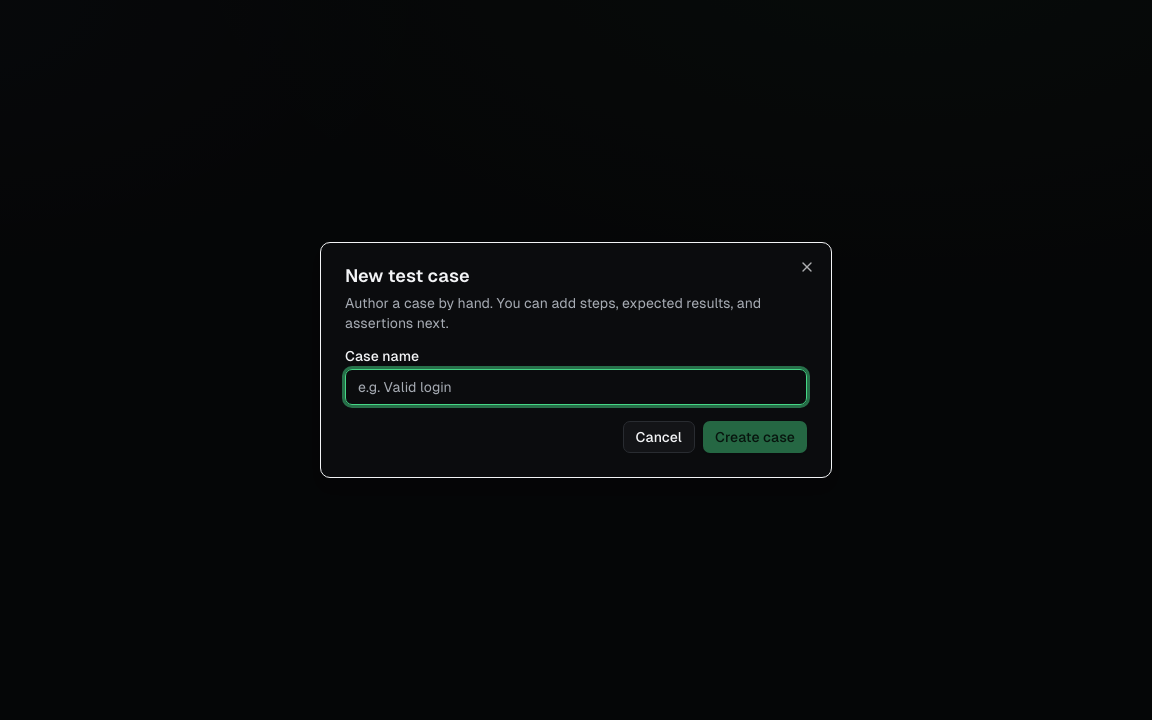
Test case: CreateCaseDialog › surfaces an error when the backend rejects the create
The width and height of the screenshot is (1152, 720).
Type "Bad" into the field with test id "create-case-name" at (576, 387), box 345,369 -> 807,405
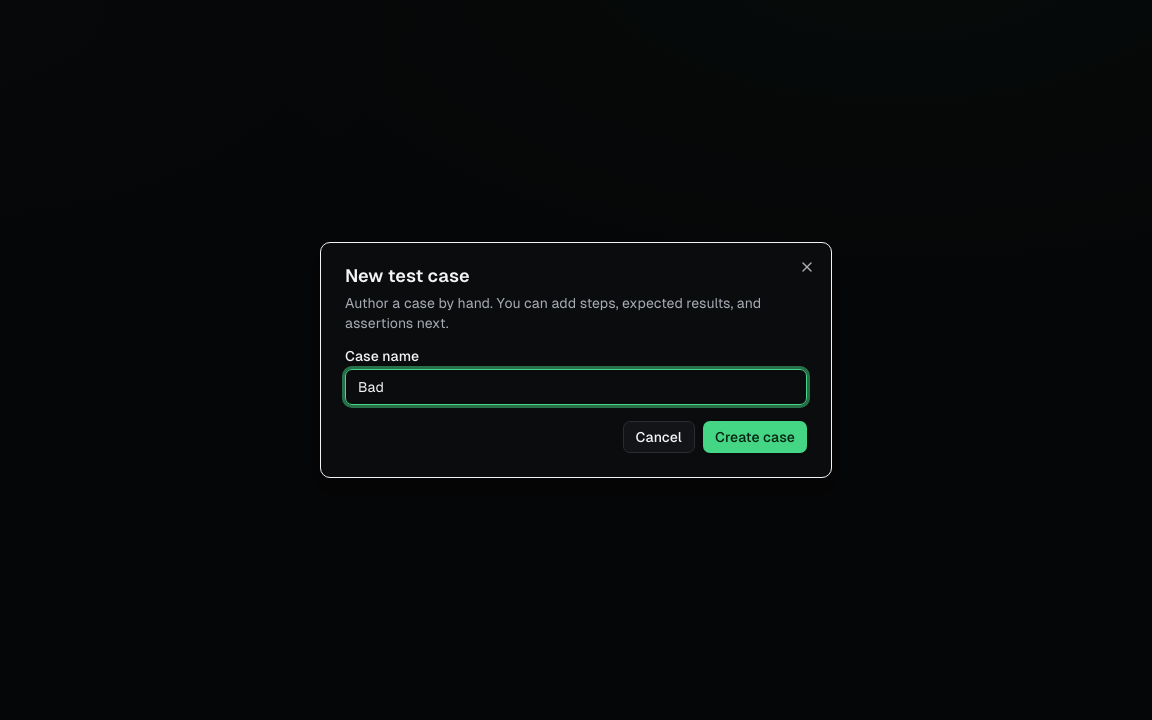
Click the button with test id "create-case-submit" at (755, 437), box 703,421 -> 807,453
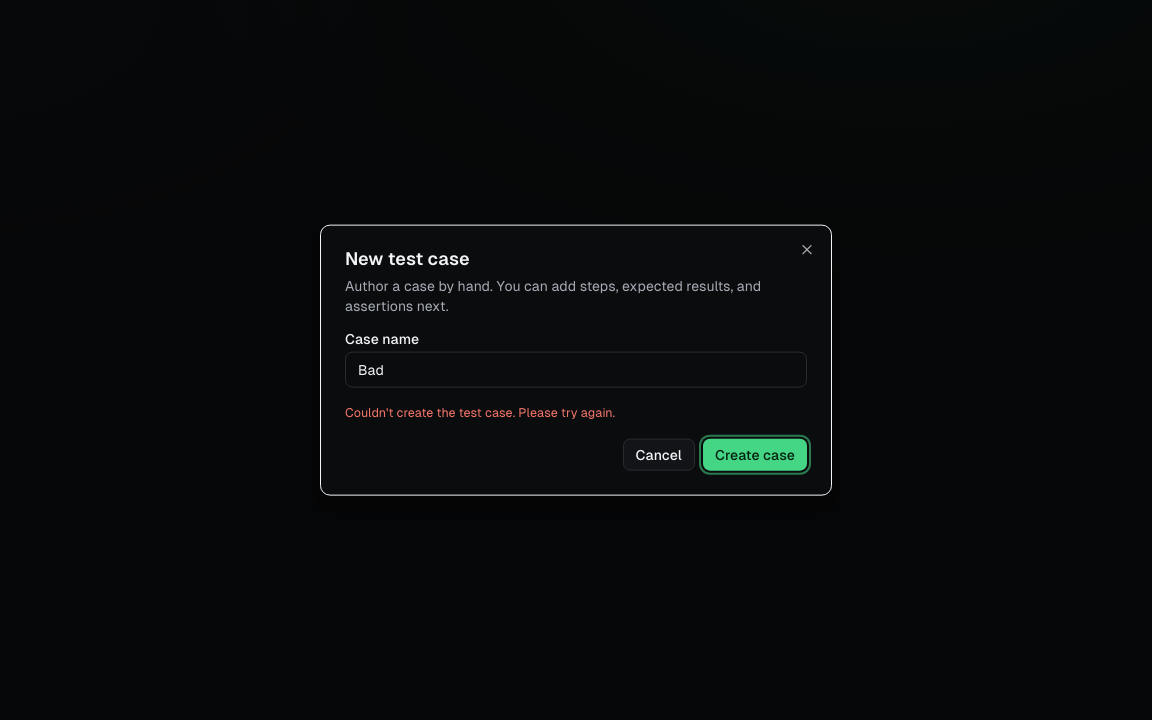
Check: the text "Couldn't create the test case. Please try again." is shown, box 345,405 -> 615,420
